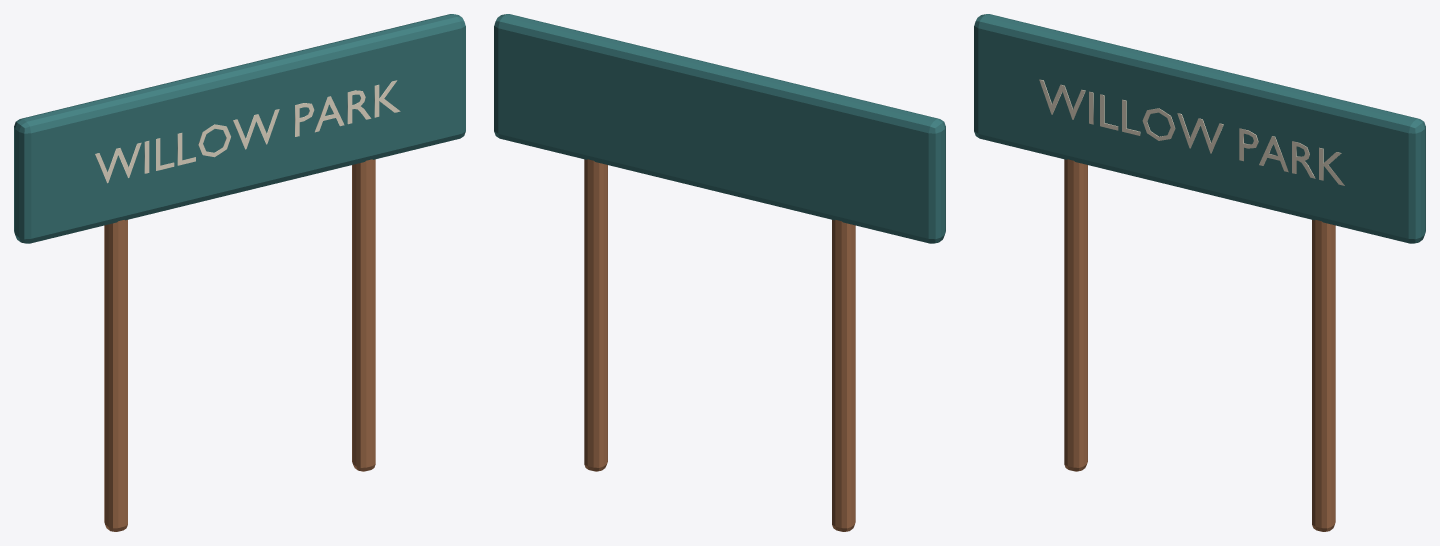
Rendered from park_sign.glb.
The picture shows the model from 3 angles, left to right: view 1: azimuth 30°, elevation 25°; view 2: azimuth 150°, elevation 25°; view 3: azimuth 330°, elevation 25°; orthographic projection.
Visible parts, largest first — view 1: park_sign_Mesh; view 2: park_sign_Mesh; view 3: park_sign_Mesh.
Part boxes in pixels (x1,y1,x2,y2): park_sign_Mesh: (14, 14, 465, 531); park_sign_Mesh: (494, 14, 945, 531); park_sign_Mesh: (974, 14, 1425, 531).
Size of the model in its own units: 1.8 by 1.66 by 0.101.
